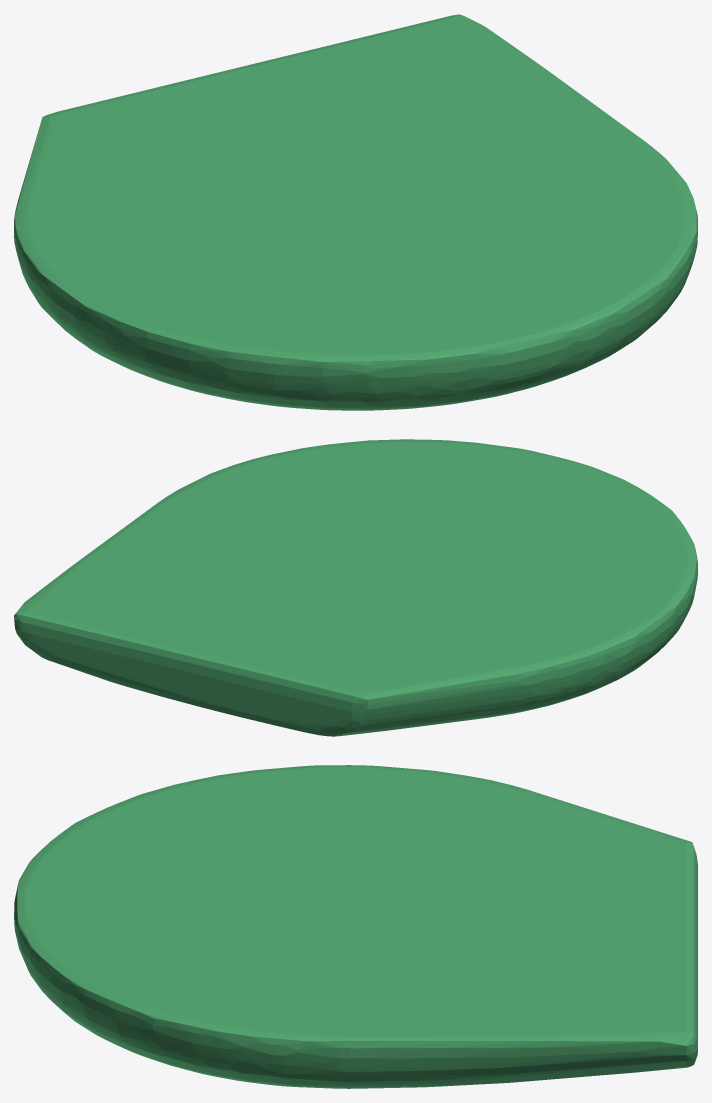
The model's file is right_hip_pitch_link_part_3.obj.
3 views of the same model, one above another, from view 1: azimuth 30°, elevation 25°; view 2: azimuth 150°, elevation 25°; view 3: azimuth 270°, elevation 25° (orthographic). The views are drawn at different scales.
Size of the model in its own units: 0.1239 by 0.0178 by 0.1288.
